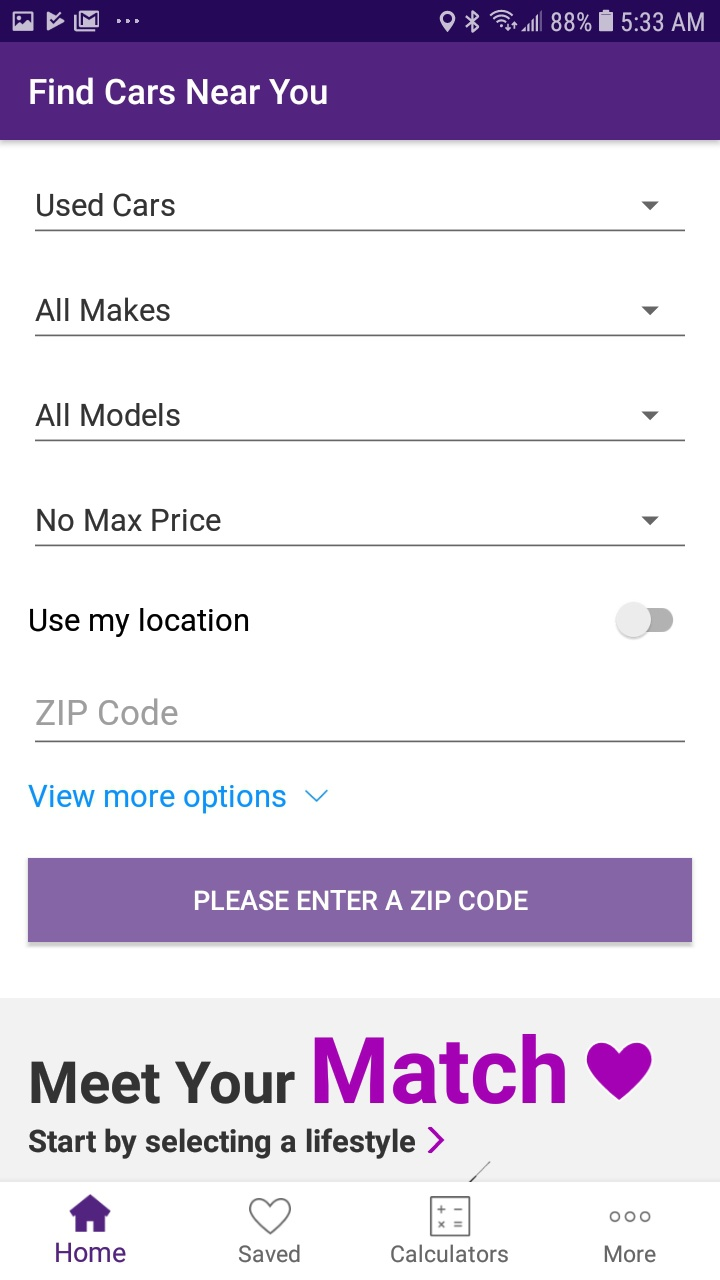EditText: (36, 698, 686, 744), (36, 508, 686, 549), (35, 298, 686, 338), (36, 193, 686, 233), (35, 403, 685, 443)
Icon: (586, 1042, 652, 1101), (430, 1195, 472, 1237), (69, 1194, 112, 1233), (249, 1197, 292, 1235), (609, 1210, 651, 1223), (427, 1126, 445, 1154), (305, 789, 329, 803), (641, 410, 660, 421), (642, 515, 660, 526), (641, 306, 659, 317), (641, 201, 659, 212)
Switch: (615, 601, 674, 639)
Text: (314, 1033, 566, 1105), (29, 1127, 416, 1160), (31, 1060, 296, 1105), (30, 78, 328, 107), (28, 785, 287, 815), (30, 607, 249, 638), (37, 508, 222, 532), (36, 698, 179, 727), (35, 403, 181, 428), (37, 193, 176, 218), (35, 298, 171, 323), (391, 1244, 509, 1264), (56, 1241, 127, 1263), (239, 1243, 301, 1263), (603, 1244, 656, 1263)
TextButton: (28, 857, 692, 942)
UpperTaskBar: (1, 1, 720, 43)
